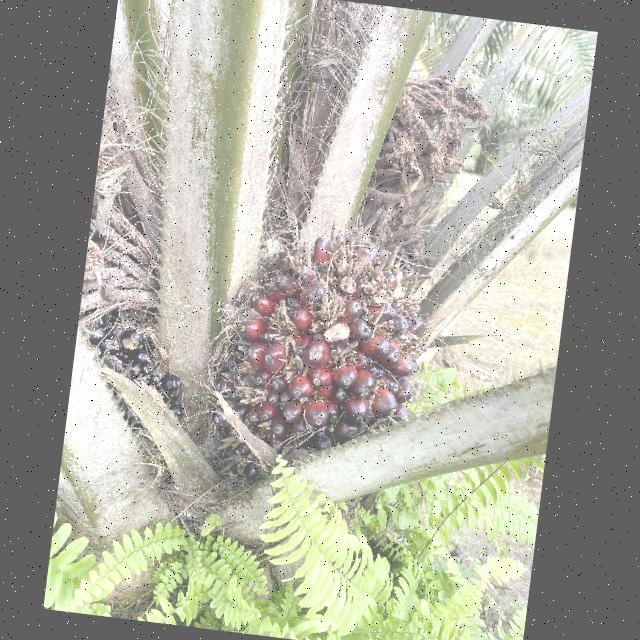Ripe: (213, 236, 426, 454)
